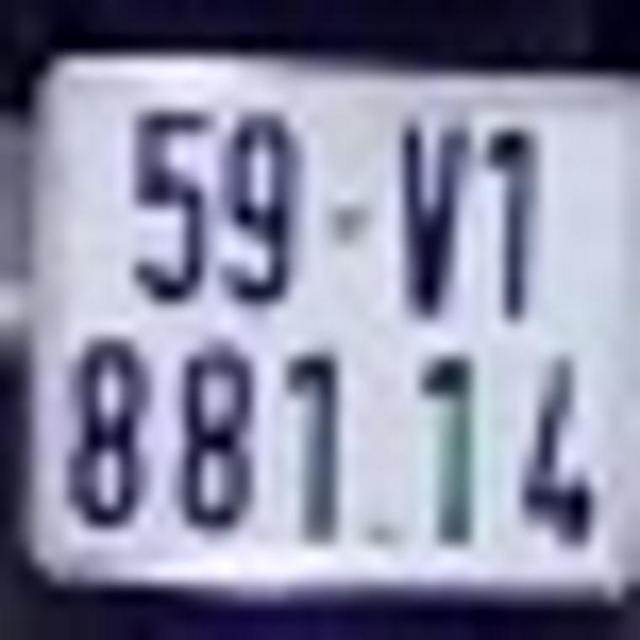1: (482, 124, 538, 327), (282, 350, 338, 546), (418, 348, 474, 542)
4: (522, 354, 596, 545)
5: (130, 110, 208, 300)
8: (180, 338, 256, 533), (70, 337, 140, 528)
9: (220, 112, 296, 303)
V: (396, 119, 471, 312)
